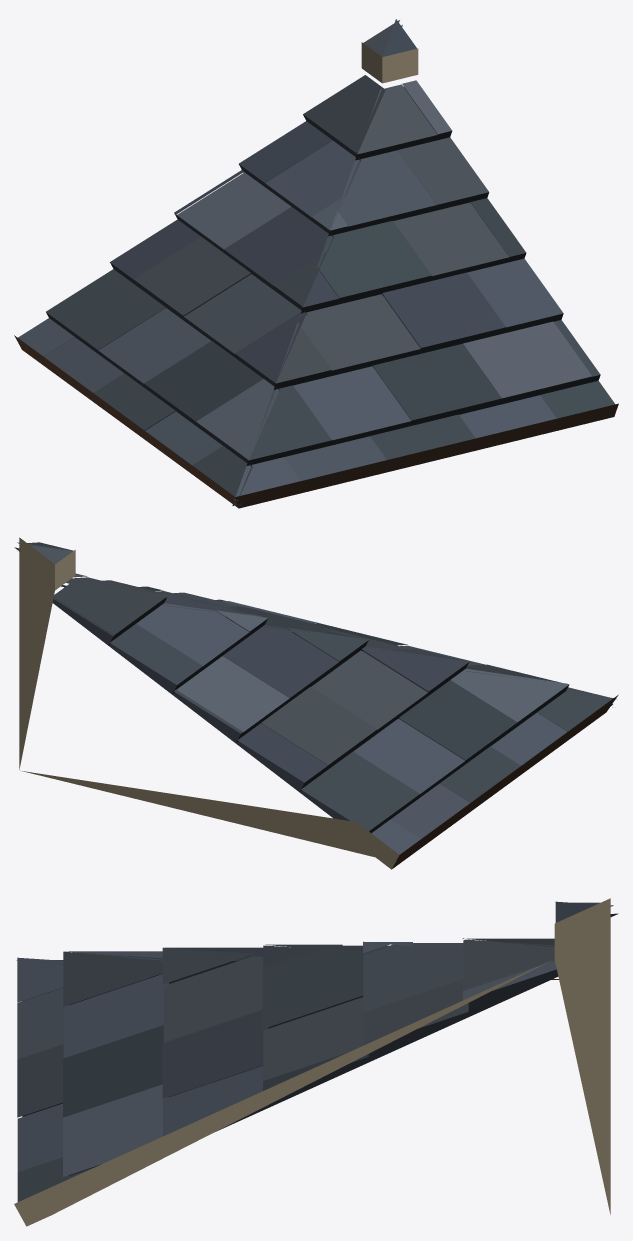
File: roof-corner-slate.glb
The picture shows the model from 3 angles, top to bottom: view 1: azimuth 30°, elevation 25°; view 2: azimuth 150°, elevation 25°; view 3: azimuth 270°, elevation 25°; orthographic projection. The views are drawn at different scales.
Visible parts, largest first — view 1: roof-corner-slate; view 2: roof-corner-slate; view 3: roof-corner-slate.
Part boxes in pixels (x1,y1,x2,y2): roof-corner-slate: [14, 19, 618, 508]; roof-corner-slate: [14, 537, 618, 869]; roof-corner-slate: [14, 898, 618, 1226].
Bounding box in the file's own units: 1.08 × 0.6483 × 1.08.
